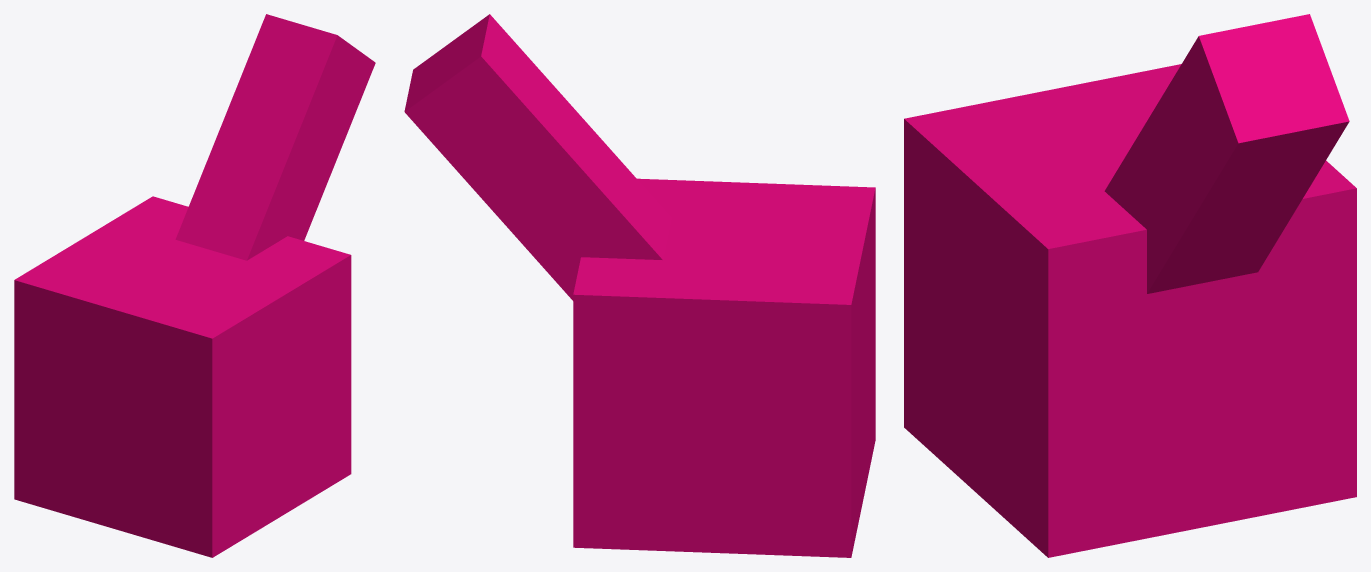
The model's file is flamingo.fbx.
The picture shows the model from 3 angles, left to right: view 1: azimuth 30°, elevation 25°; view 2: azimuth 150°, elevation 25°; view 3: azimuth 270°, elevation 25°; orthographic projection. The views are drawn at different scales.
Parts seen in each view (by area): view 1: flamingo; view 2: flamingo; view 3: flamingo.
Boxes of the visible parts, bbox=[...] form: flamingo: bbox=[14, 14, 375, 557]; flamingo: bbox=[404, 14, 875, 557]; flamingo: bbox=[904, 14, 1356, 557].
Size of the model in its own units: 142 by 142 by 106.
